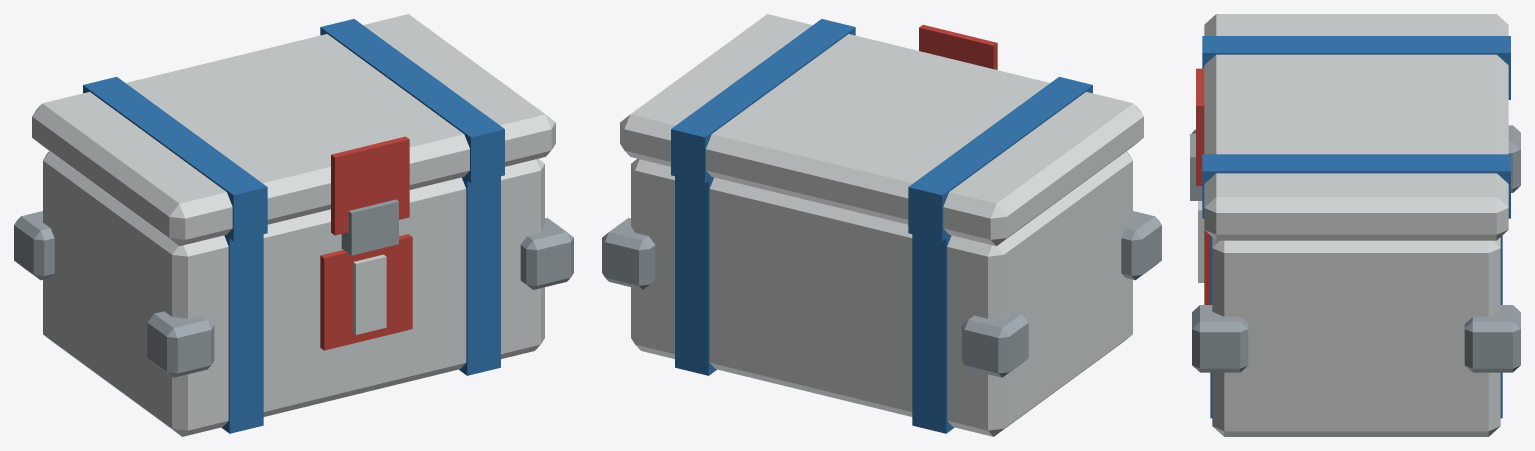
Rendered from chest.fbx.
3 renders of one model, left to right at view 1: azimuth 30°, elevation 25°; view 2: azimuth 150°, elevation 25°; view 3: azimuth 270°, elevation 25°, orthographic. The views are drawn at different scales.
Parts seen in each view (by area): view 1: chest, Lid; view 2: chest, Lid; view 3: Lid, chest.
Part boxes in pixels (<box>): chest: <box>14,151,573,436</box>; Lid: <box>32,14,555,246</box>; chest: <box>602,151,1161,436</box>; Lid: <box>620,14,1143,246</box>; Lid: <box>1196,14,1510,240</box>; chest: <box>1190,125,1520,436</box>.
Size of the model in its own units: 1.2 by 0.725 by 0.825.
